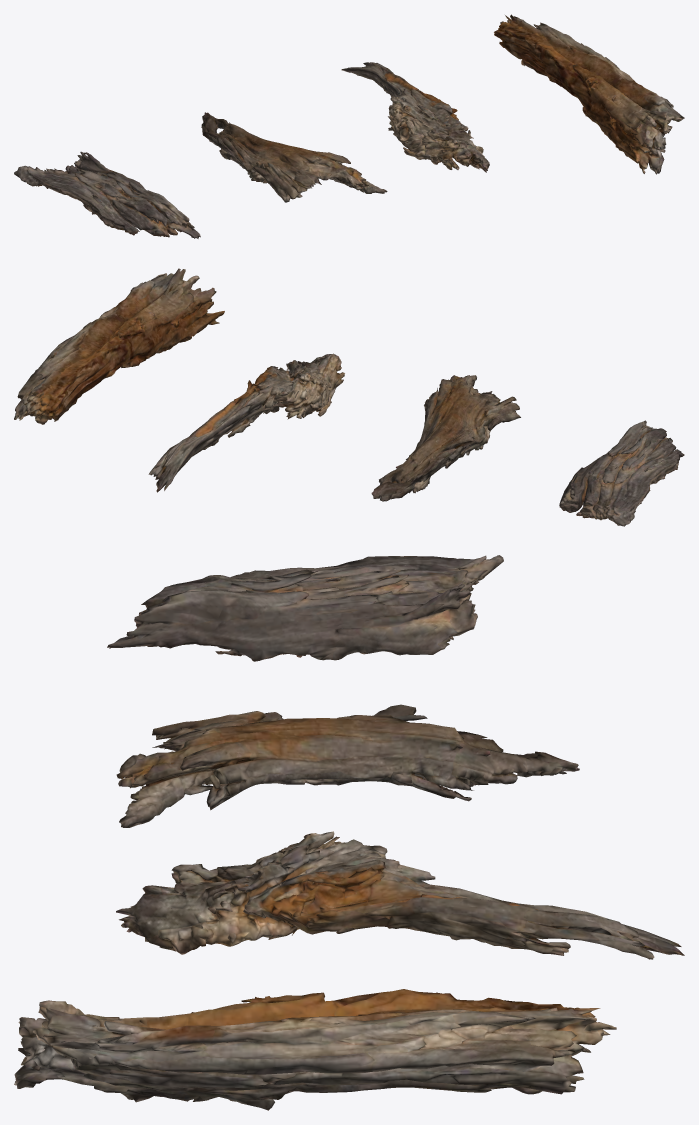
The model's file is bark_debris_01.glb.
The picture shows the model from 3 angles, top to bottom: view 1: azimuth 30°, elevation 25°; view 2: azimuth 150°, elevation 25°; view 3: azimuth 270°, elevation 25°; orthographic projection. The views are drawn at different scales.
Visible parts, largest first — view 1: bark_debris_01_d, bark_debris_01_a, bark_debris_01_b, bark_debris_01_c; view 2: bark_debris_01_d, bark_debris_01_b, bark_debris_01_c, bark_debris_01_a; view 3: bark_debris_01_d, bark_debris_01_c, bark_debris_01_a, bark_debris_01_b.
Boxes of the visible parts, x1=… form: bark_debris_01_d: x1=494, y1=14, x2=684, y2=174; bark_debris_01_a: x1=14, y1=151, x2=200, y2=238; bark_debris_01_b: x1=201, y1=112, x2=387, y2=202; bark_debris_01_c: x1=341, y1=62, x2=489, y2=172; bark_debris_01_d: x1=14, y1=268, x2=224, y2=424; bark_debris_01_b: x1=371, y1=375, x2=520, y2=501; bark_debris_01_c: x1=148, y1=353, x2=344, y2=492; bark_debris_01_a: x1=559, y1=420, x2=684, y2=526; bark_debris_01_d: x1=14, y1=989, x2=616, y2=1110; bark_debris_01_c: x1=116, y1=831, x2=684, y2=959; bark_debris_01_a: x1=107, y1=555, x2=503, y2=661; bark_debris_01_b: x1=116, y1=704, x2=579, y2=827.
Bounding box in the file's own units: 1.21 × 0.1119 × 0.6735.
Materials: 1 (1 with a texture image).
